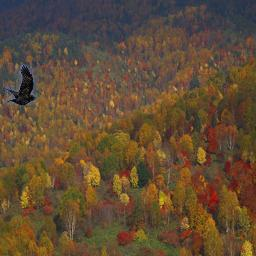Crow: (5, 65, 37, 105)
